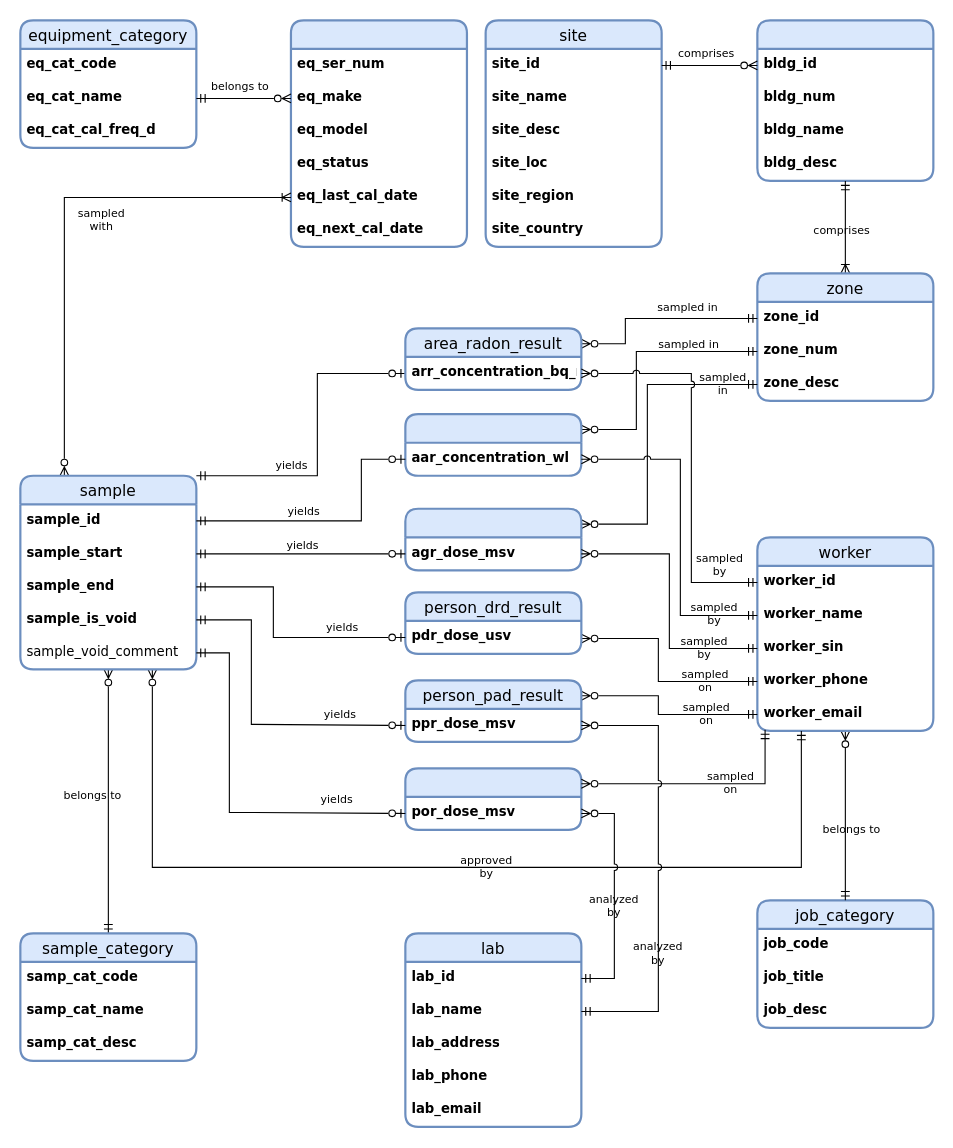
The diagram is 953 pixels wide and 1148 high, and some of its shapes have lost their labels. The shapes that lost their labels are listed below. From the top down, each one's box as (x1, y1, x2, y2) in pixels, then its label:
(756, 19, 934, 182): building
(289, 19, 468, 248): equipment
(404, 413, 582, 476): area_alpha_result
(404, 507, 582, 571): area_gamma_result
(404, 767, 582, 831): person_osld_result
